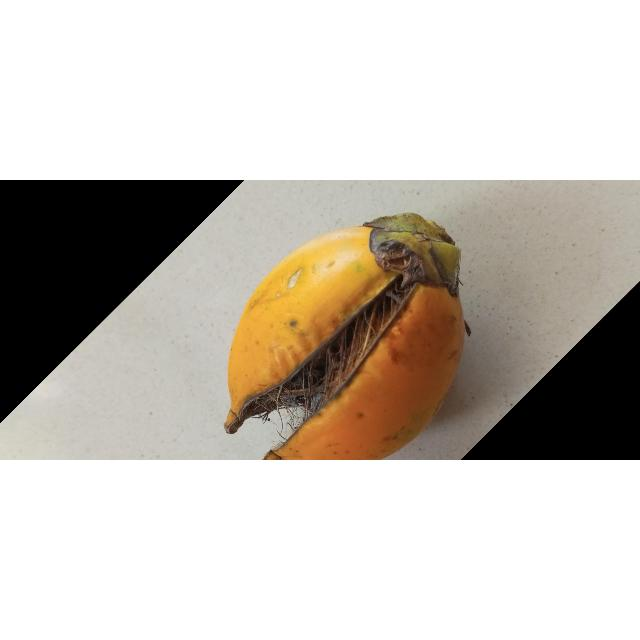damaged: (224, 214, 468, 461)
